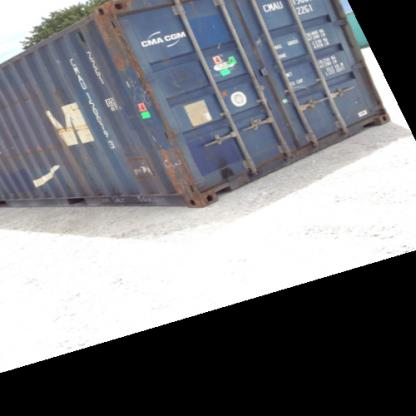Damage: (94, 11, 159, 107), (154, 126, 202, 194), (1, 186, 80, 203), (50, 84, 86, 115), (0, 144, 64, 161), (120, 150, 155, 179), (1, 87, 40, 108), (51, 117, 99, 134), (214, 151, 238, 182), (89, 185, 128, 203), (50, 51, 68, 69)
